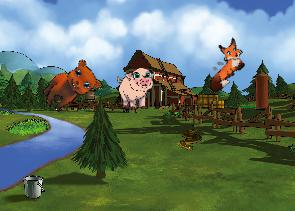bear: (37, 53, 106, 123)
fox: (193, 34, 254, 95)
pig: (117, 68, 155, 110)
